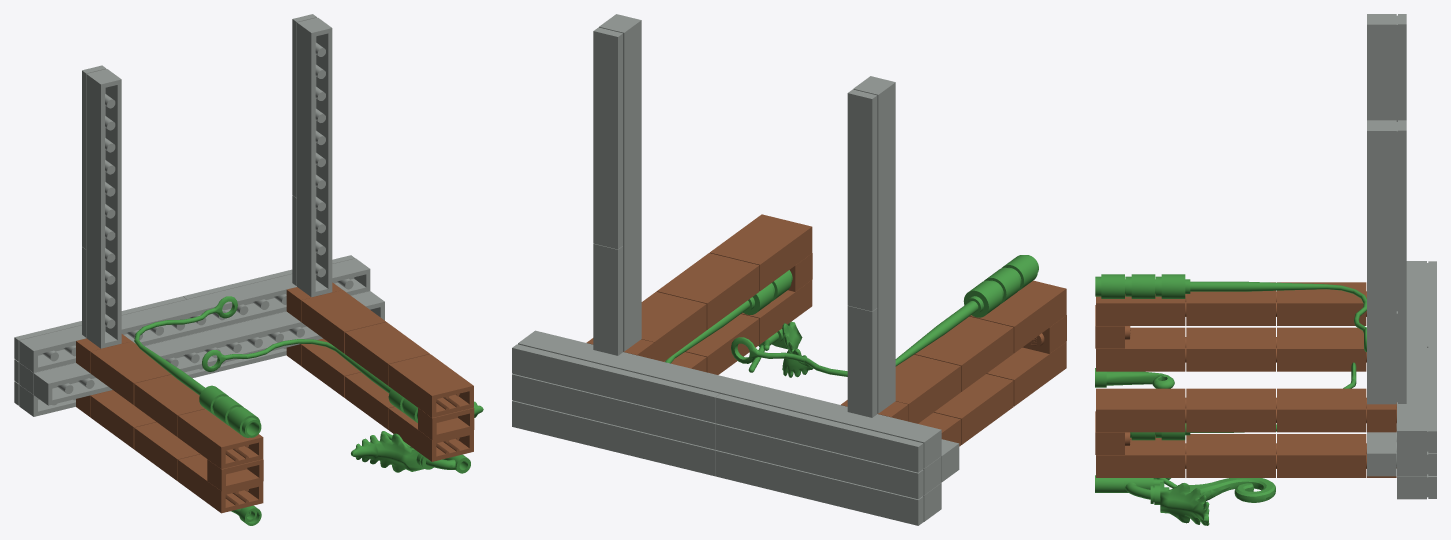
The model's file is Columnas.dae.
3 renders of one model, left to right at view 1: azimuth 30°, elevation 25°; view 2: azimuth 150°, elevation 25°; view 3: azimuth 270°, elevation 25°, orthographic. The views are drawn at different scales.
Parts seen in each view (by area): view 1: Inner-Node-Columnas_dot_io-31, Inner-Node-Columnas_dot_io-28, Inner-Node-Columnas_dot_io-9, Inner-Node-Columnas_dot_io-17, Inner-Node-Columnas_dot_io-18, Inner-Node-Columnas_dot_io-0, Inner-Node-Columnas_dot_io-20, Inner-Node-Columnas_dot_io-22, Inner-Node-Columnas_dot_io-4, Inner-Node-Columnas_dot_io-2, Inner-Node-Columnas_dot_io-1, Inner-Node-Columnas_dot_io-19 (+19 smaller); view 2: Inner-Node-Columnas_dot_io-9, Inner-Node-Columnas_dot_io-32, Inner-Node-Columnas_dot_io-31, Inner-Node-Columnas_dot_io-28, Inner-Node-Columnas_dot_io-10, Inner-Node-Columnas_dot_io-29, Inner-Node-Columnas_dot_io-11, Inner-Node-Columnas_dot_io-15, Inner-Node-Columnas_dot_io-12, Inner-Node-Columnas_dot_io-13, Inner-Node-Columnas_dot_io-16, Inner-Node-Columnas_dot_io-20 (+20 smaller); view 3: Inner-Node-Columnas_dot_io-28, Inner-Node-Columnas_dot_io-9, Inner-Node-Columnas_dot_io-20, Inner-Node-Columnas_dot_io-3, Inner-Node-Columnas_dot_io-18, Inner-Node-Columnas_dot_io-22, Inner-Node-Columnas_dot_io-21, Inner-Node-Columnas_dot_io-23, Inner-Node-Columnas_dot_io-5, Inner-Node-Columnas_dot_io-1, Inner-Node-Columnas_dot_io-4, Inner-Node-Columnas_dot_io-31 (+23 smaller).
Part boxes in pixels (x1,y1,x2,y2): Inner-Node-Columnas_dot_io-31: (86, 69, 121, 348); Inner-Node-Columnas_dot_io-28: (297, 17, 332, 297); Inner-Node-Columnas_dot_io-9: (19, 258, 370, 372); Inner-Node-Columnas_dot_io-17: (34, 291, 384, 405); Inner-Node-Columnas_dot_io-18: (388, 354, 473, 417); Inner-Node-Columnas_dot_io-0: (178, 409, 263, 469); Inner-Node-Columnas_dot_io-20: (345, 322, 429, 385); Inner-Node-Columnas_dot_io-22: (301, 290, 385, 353); Inner-Node-Columnas_dot_io-4: (90, 341, 171, 404); Inner-Node-Columnas_dot_io-2: (134, 374, 204, 437); Inner-Node-Columnas_dot_io-1: (178, 454, 263, 513); Inner-Node-Columnas_dot_io-19: (388, 407, 473, 461); Inner-Node-Columnas_dot_io-9: (518, 330, 941, 468); Inner-Node-Columnas_dot_io-32: (847, 89, 877, 311); Inner-Node-Columnas_dot_io-31: (853, 76, 895, 413); Inner-Node-Columnas_dot_io-28: (599, 14, 641, 351); Inner-Node-Columnas_dot_io-10: (715, 394, 923, 472); Inner-Node-Columnas_dot_io-29: (593, 27, 622, 249); Inner-Node-Columnas_dot_io-11: (512, 344, 719, 422); Inner-Node-Columnas_dot_io-15: (715, 450, 923, 525); Inner-Node-Columnas_dot_io-12: (715, 423, 923, 499); Inner-Node-Columnas_dot_io-13: (512, 374, 715, 449); Inner-Node-Columnas_dot_io-16: (512, 400, 715, 476); Inner-Node-Columnas_dot_io-20: (656, 253, 759, 329); Inner-Node-Columnas_dot_io-28: (1367, 120, 1396, 404); Inner-Node-Columnas_dot_io-9: (1397, 261, 1426, 453); Inner-Node-Columnas_dot_io-20: (1186, 388, 1276, 432); Inner-Node-Columnas_dot_io-3: (1186, 327, 1276, 371); Inner-Node-Columnas_dot_io-18: (1096, 388, 1186, 432); Inner-Node-Columnas_dot_io-22: (1277, 388, 1366, 432); Inner-Node-Columnas_dot_io-21: (1186, 434, 1276, 477); Inner-Node-Columnas_dot_io-23: (1277, 434, 1366, 477); Inner-Node-Columnas_dot_io-5: (1277, 327, 1366, 371); Inner-Node-Columnas_dot_io-1: (1096, 327, 1186, 371); Inner-Node-Columnas_dot_io-4: (1277, 282, 1366, 325); Inner-Node-Columnas_dot_io-31: (1367, 14, 1396, 120).
Bounding box in the file's own units: 339 × 327 × 272.
